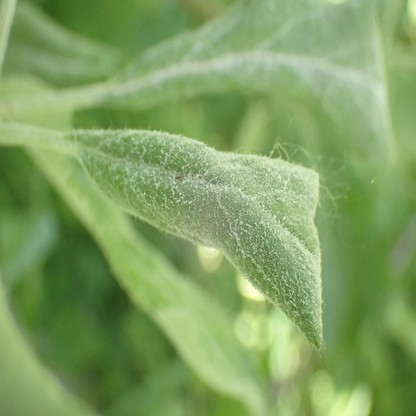powder: (59, 129, 323, 352)
